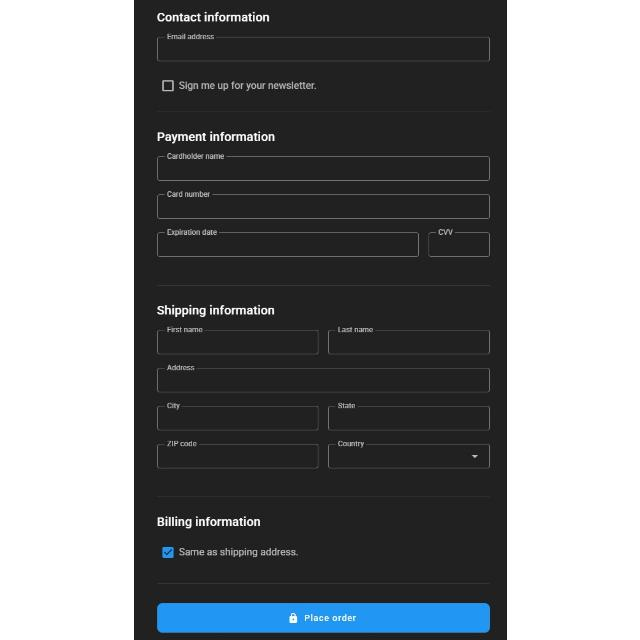QLabel: (177, 80, 315, 92), (155, 10, 269, 24), (155, 132, 275, 144), (178, 547, 298, 559), (156, 305, 274, 317), (156, 516, 260, 528), (304, 612, 356, 624)
VBtn: (156, 602, 490, 634)
VCheckbox: (160, 79, 174, 93), (160, 546, 173, 558)
VCombobox: (327, 440, 491, 470)
VDivider: (155, 580, 490, 586), (154, 110, 492, 114), (155, 495, 491, 499), (154, 284, 490, 288)
VTextField: (155, 364, 491, 394), (155, 190, 490, 220), (155, 33, 490, 63), (156, 153, 490, 183), (156, 228, 420, 260), (155, 439, 319, 469), (155, 402, 319, 432), (155, 326, 319, 356), (326, 325, 490, 355), (326, 402, 489, 432), (428, 229, 490, 259)
